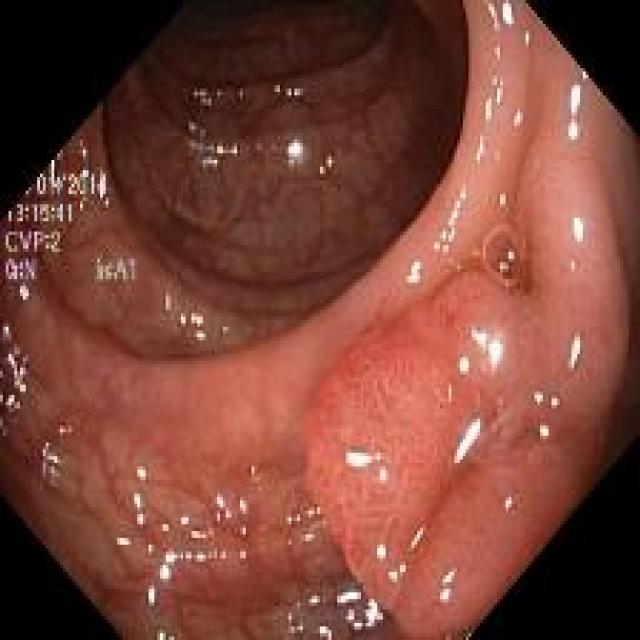Polyps: (308, 173, 628, 637)
